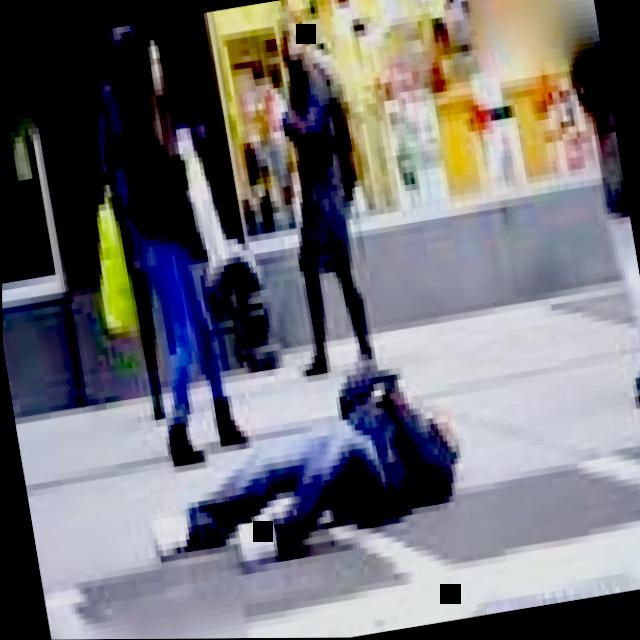Fall-Detected: (127, 309, 487, 587)
